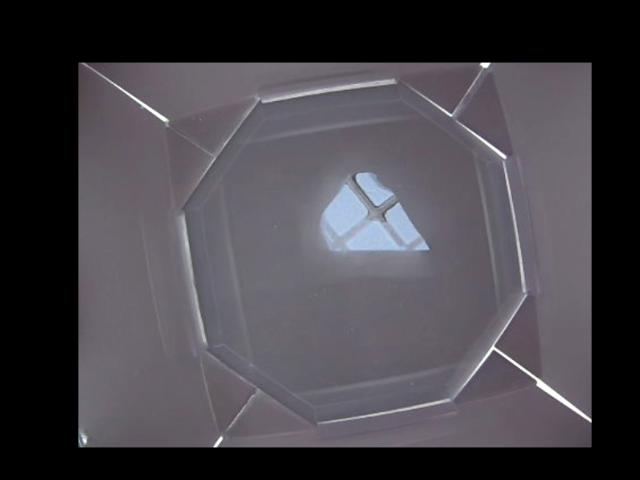China: (320, 172, 429, 252)
